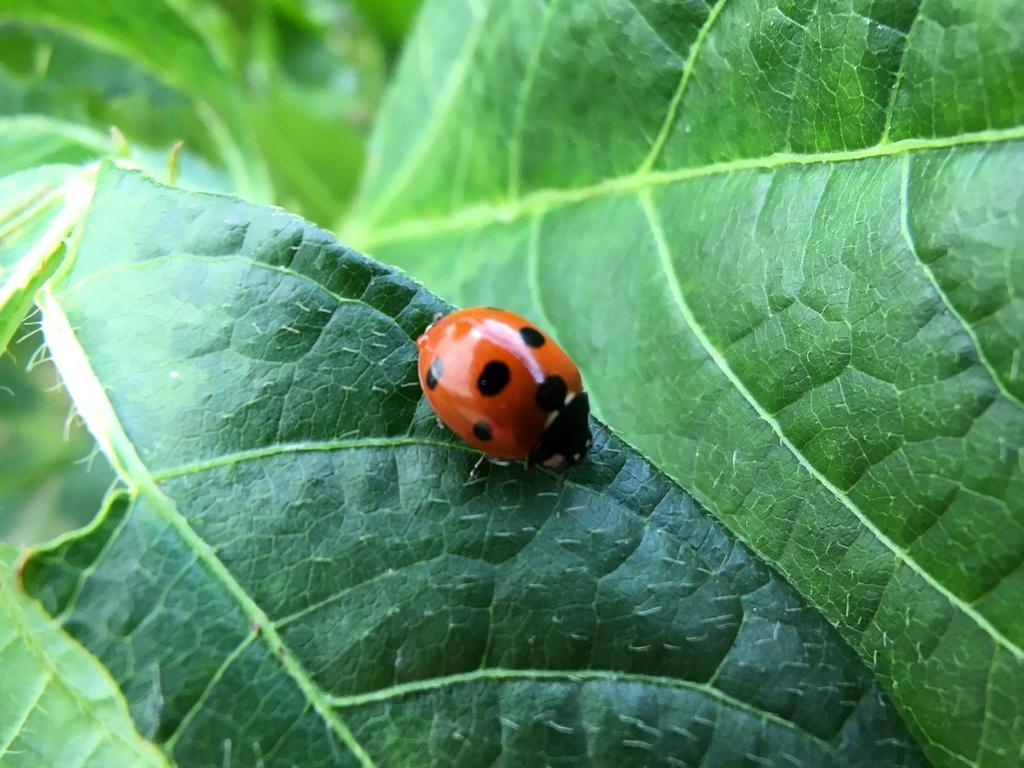ladybug: (413, 305, 601, 485)
